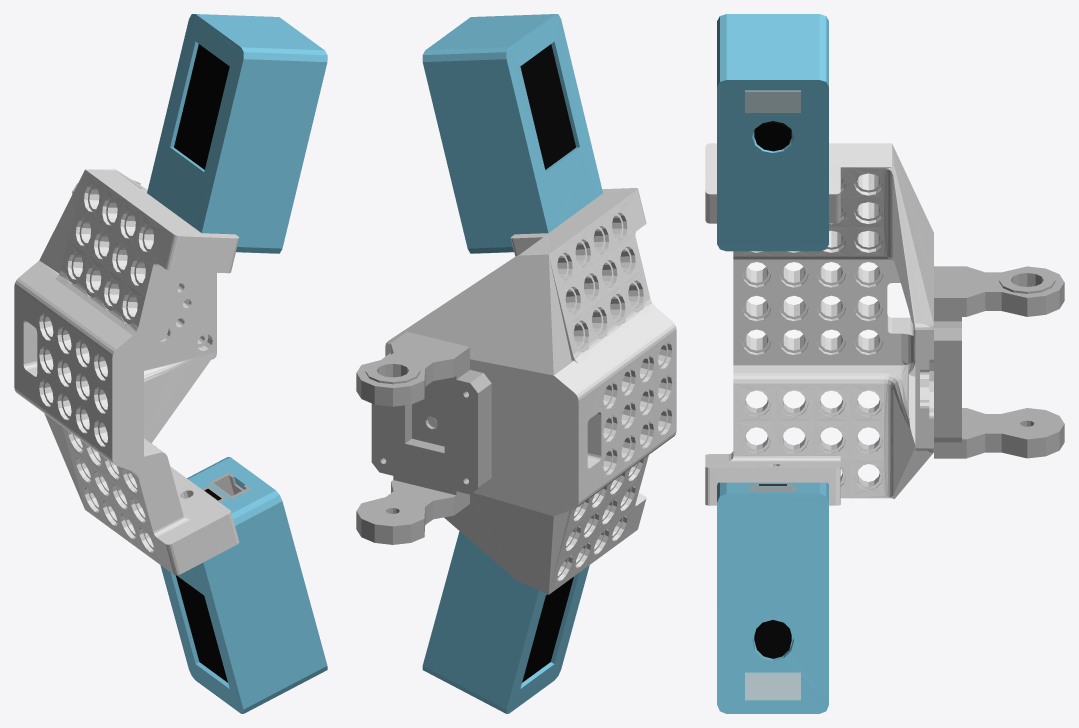
Rendered from head-neck-p_mesh.glb.
The picture shows the model from 3 angles, left to right: view 1: azimuth 30°, elevation 25°; view 2: azimuth 150°, elevation 25°; view 3: azimuth 270°, elevation 25°; orthographic projection. The views are drawn at different scales.
Visible parts, largest first — view 1: base2_M1KShape3, base2_M1KShape4, base2_M1KShape11, base2_M1KShape5, base2_M1KShape12, base2_M1KShape15; view 2: base2_M1KShape3, base2_M1KShape4, base2_M1KShape11, base2_M1KShape0, base2_M1KShape2, base2_M1KShape1, base2_M1KShape5, base2_M1KShape12; view 3: base2_M1KShape3, base2_M1KShape4, base2_M1KShape11, base2_M1KShape2, base2_M1KShape1, base2_M1KShape0, base2_M1KShape14, base2_M1KShape7, base2_M1KShape13, base2_M1KShape6.
Part boxes in pixels (x1,y1,x2,y2): base2_M1KShape3: (14,168,239,575); base2_M1KShape4: (147,14,327,253); base2_M1KShape11: (160,457,327,713); base2_M1KShape5: (174,44,229,169); base2_M1KShape12: (176,575,227,682); base2_M1KShape15: (209,472,250,498); base2_M1KShape3: (385,188,676,594); base2_M1KShape4: (422,14,602,253); base2_M1KShape11: (422,531,589,713); base2_M1KShape0: (371,353,491,494); base2_M1KShape2: (356,331,469,406); base2_M1KShape1: (356,476,469,544); base2_M1KShape5: (520,44,575,169); base2_M1KShape12: (522,577,573,682); base2_M1KShape3: (705,143,933,505); base2_M1KShape4: (717,14,828,251); base2_M1KShape11: (717,482,828,713); base2_M1KShape2: (934,266,1064,321); base2_M1KShape1: (934,408,1064,458); base2_M1KShape0: (934,321,961,442); base2_M1KShape14: (745,672,800,700); base2_M1KShape7: (745,90,800,112); base2_M1KShape13: (754,620,791,658); base2_M1KShape6: (754,121,791,151).
Size of the model in its own units: 0.053 by 0.1614 by 0.077.
